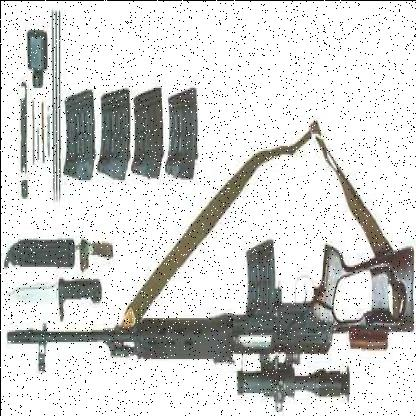rifle: (5, 215, 416, 390)
